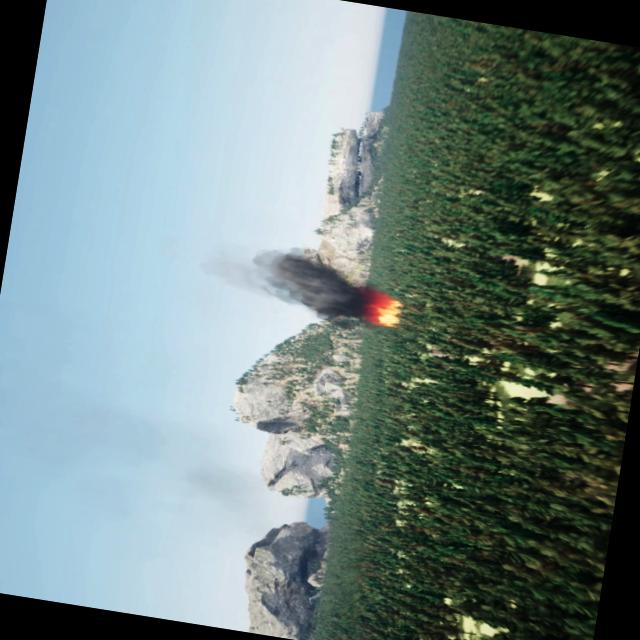fire: (368, 292, 398, 326)
smoke: (208, 235, 373, 322)
